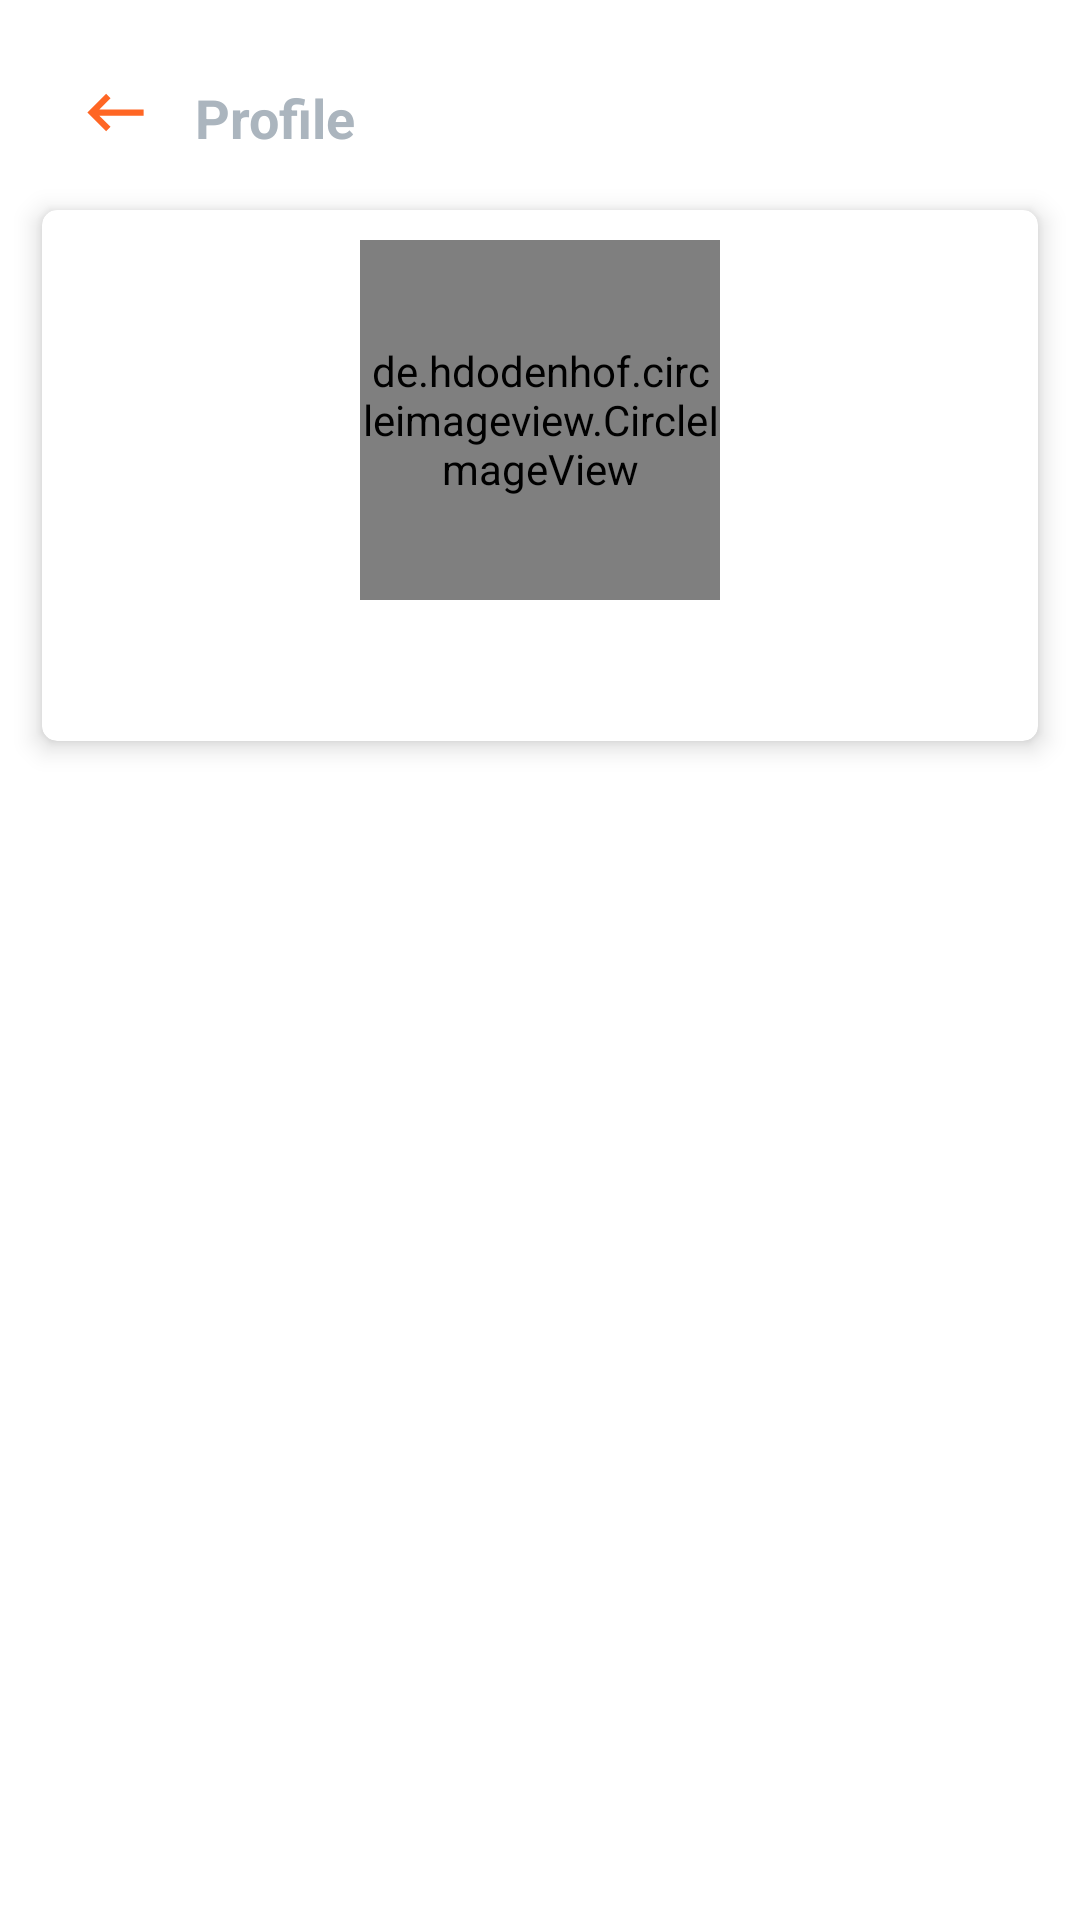

Screen size 1080px×1920px. Icon name, then its box in pixels as (x1,y1,x2,y2):
back: (87,94,144,131)
